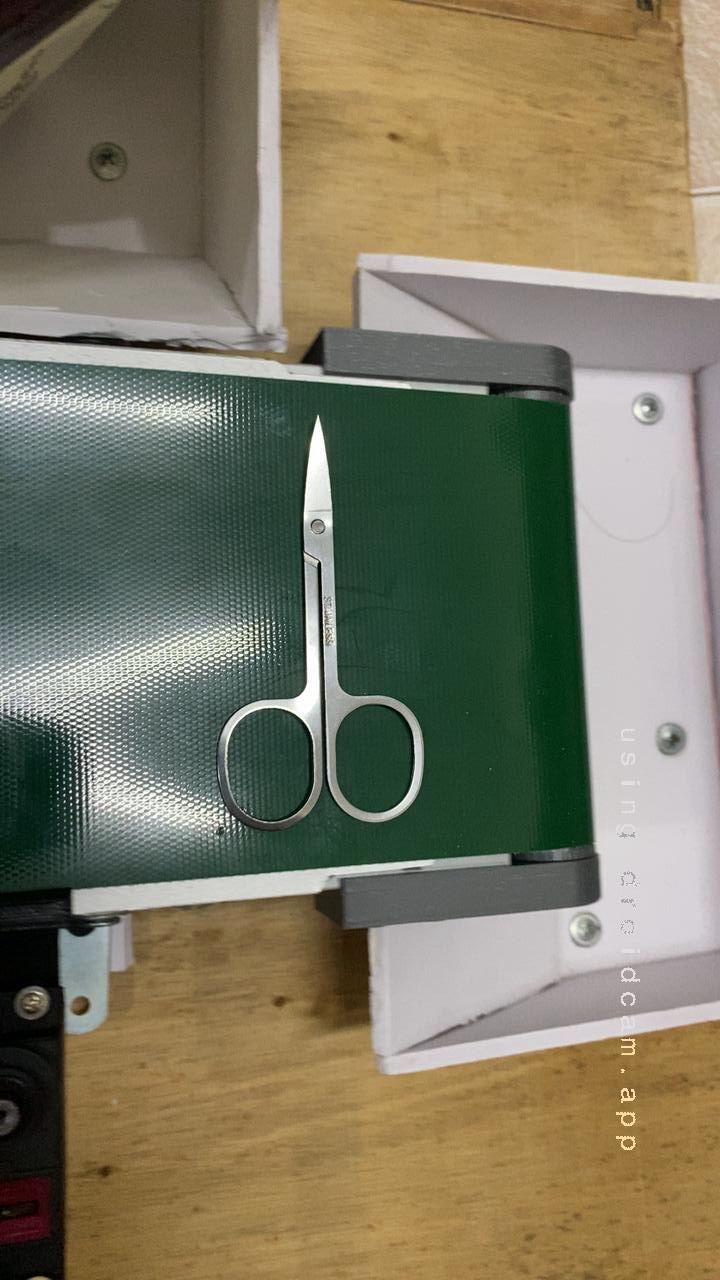scissor: (195, 416, 456, 865)
